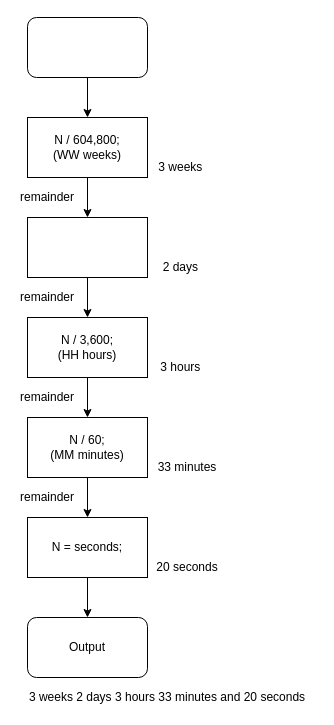
The diagram is 334 pixels wide and 725 high, and some of its shapes have lost their labels. Each missing label, with the centre of its shape:
"Input Intenger Number N = 2000000" goes at point (87, 47).
"N / 86,400; (DD days)" goes at point (87, 247).
